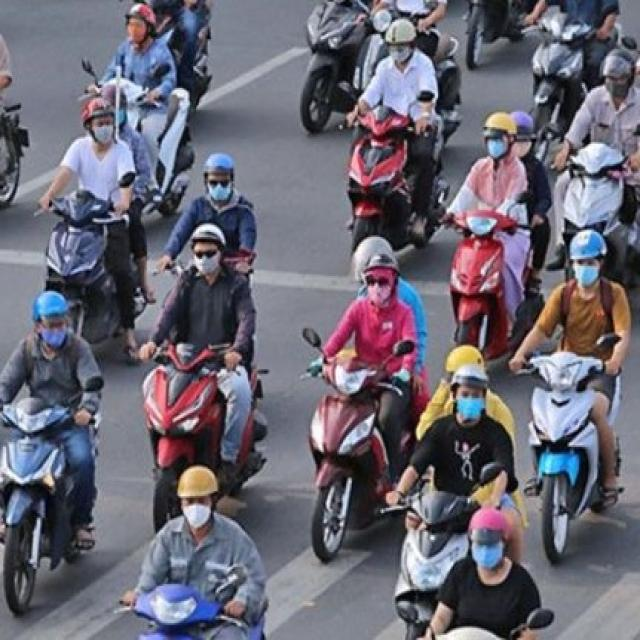1-2-helmet: (173, 460, 225, 500)
